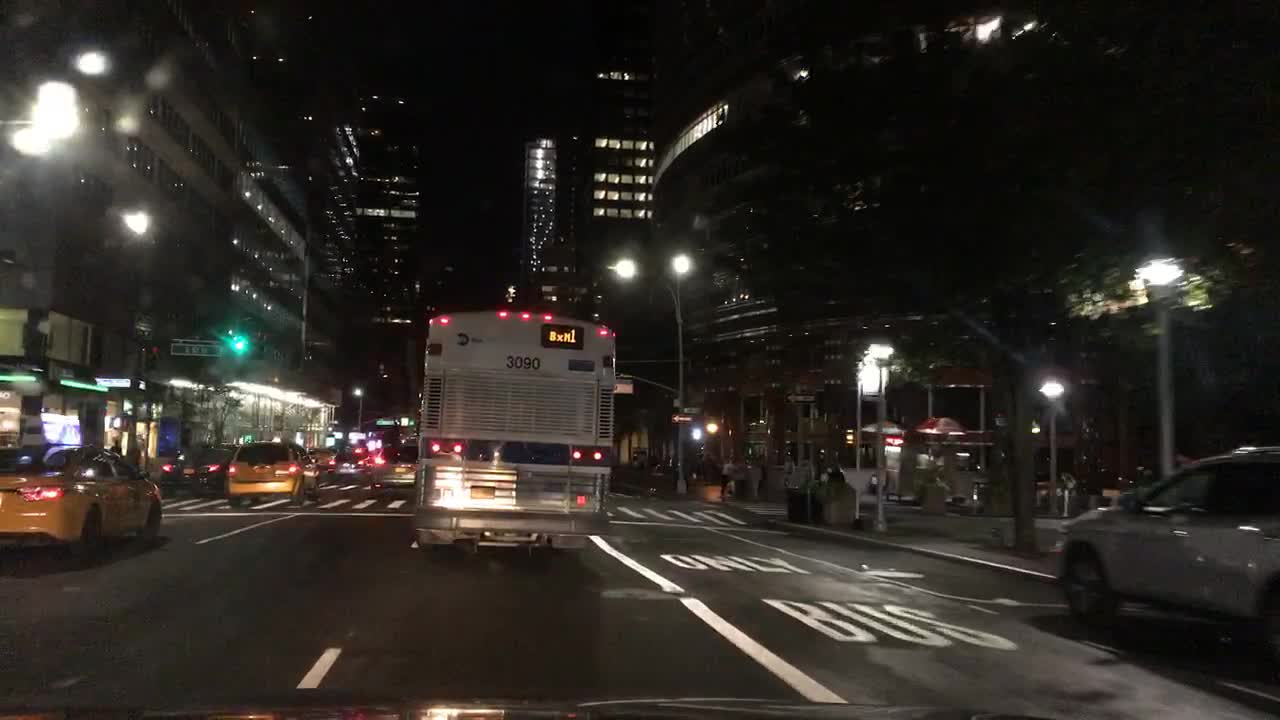bus: (412, 306, 617, 568)
car: (1056, 434, 1279, 632), (0, 443, 168, 567), (226, 439, 323, 511), (159, 443, 231, 499), (372, 438, 418, 489), (332, 443, 372, 476)
person: (779, 446, 795, 487), (825, 458, 847, 485)
traffic light: (145, 341, 158, 369), (232, 328, 244, 356), (688, 424, 702, 443), (704, 421, 723, 434)
traffic sign: (170, 340, 222, 358), (613, 378, 631, 394), (678, 403, 701, 415), (669, 415, 695, 425)
